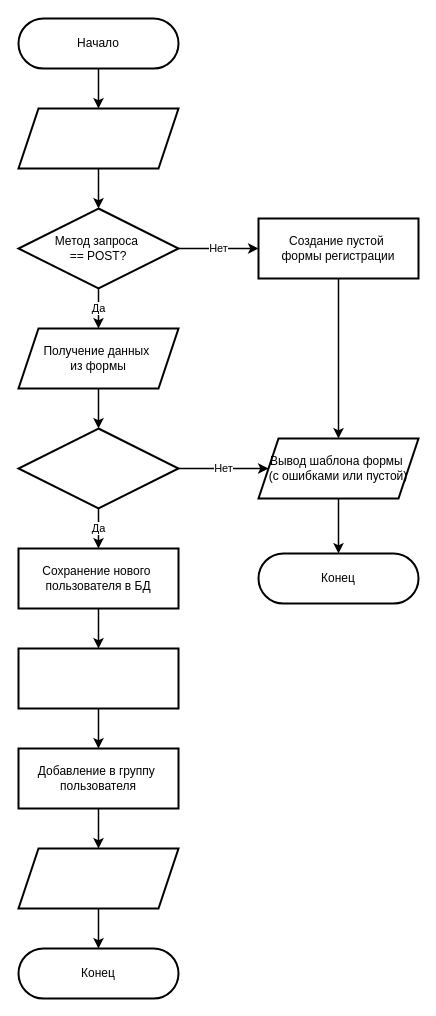
Some shapes in this 436 by 1016 pixel diagram are drawn without their labels. Each missing label, with the centre of its shape:
Данные формы валидны?: (x=98, y=468)
Запрос страницы регистрации: (x=98, y=138)
Перенаправление на главную страницу: (x=98, y=878)
Поиск группы 'Client': (x=98, y=678)
